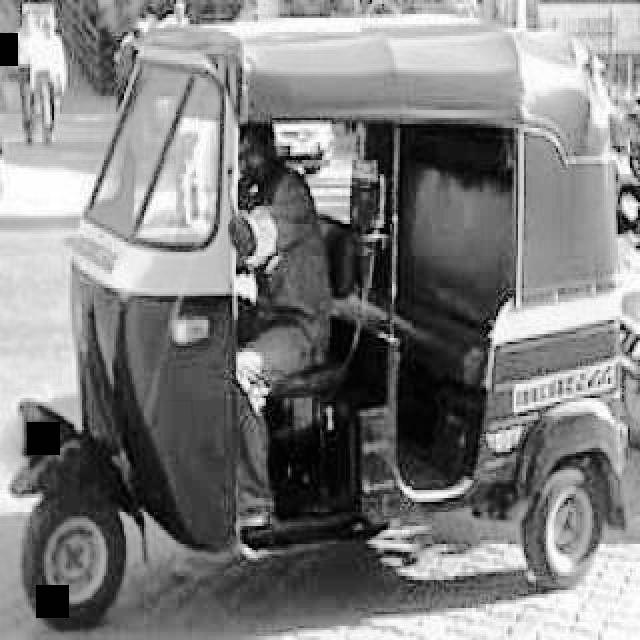Auto-Rickshaw: (38, 24, 640, 604)
